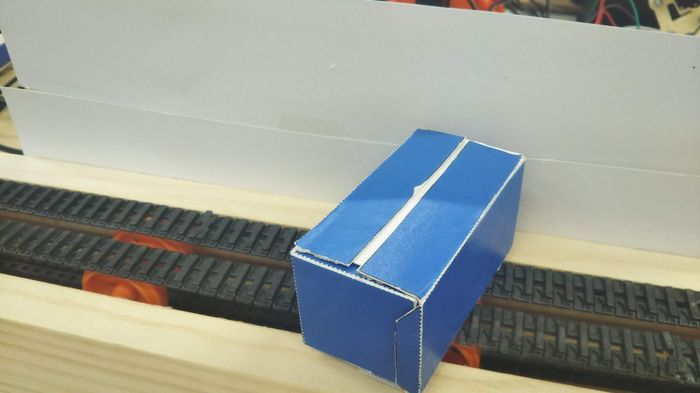box3: (288, 125, 525, 393)
